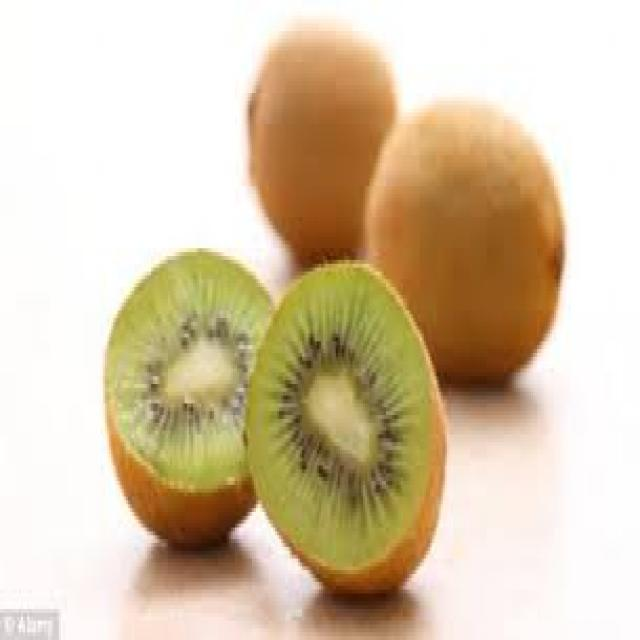organic waste: (245, 256, 445, 597), (363, 89, 564, 384), (99, 248, 288, 551), (246, 27, 394, 256)
